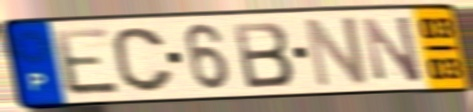6: (183, 21, 232, 92)
B: (229, 19, 297, 91)
C: (109, 25, 177, 95)
E: (50, 25, 124, 98)
N: (302, 13, 371, 90), (359, 13, 425, 85)
